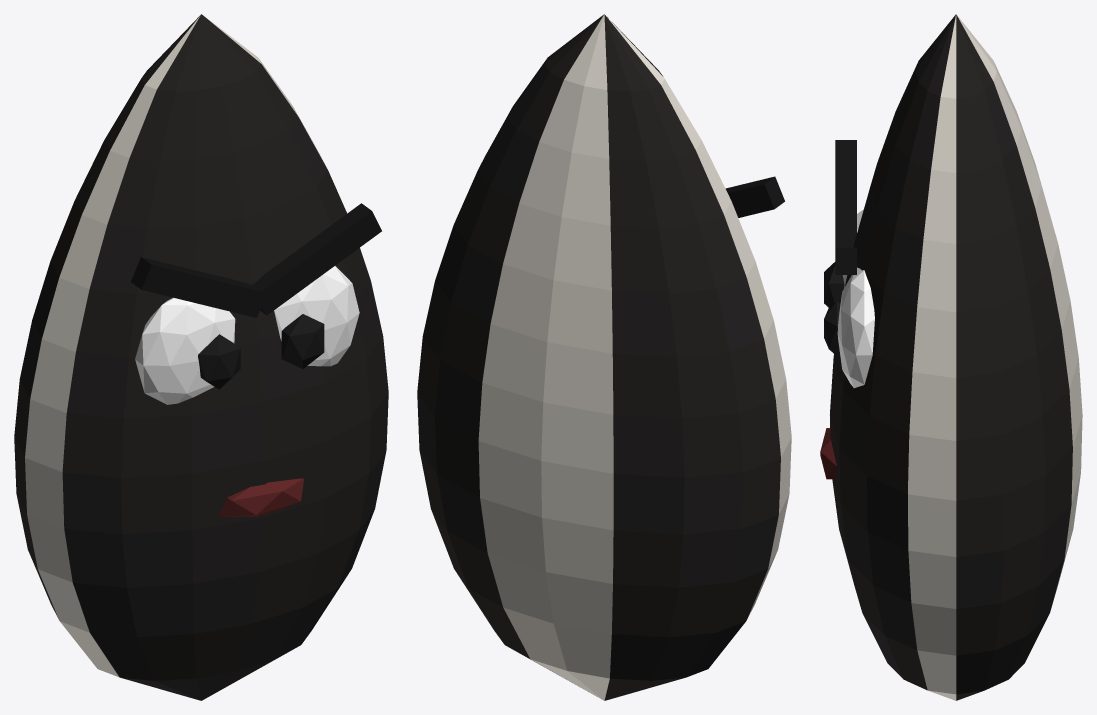
File: seed_melee.glb
3 views of the same model, side by side, from view 1: azimuth 30°, elevation 25°; view 2: azimuth 150°, elevation 25°; view 3: azimuth 270°, elevation 25° (orthographic).
Visible parts, largest first — view 1: melee_Shell, melee_Eye, melee_Brow, melee_Pupil, melee_Mouth; view 2: melee_Shell, melee_Brow; view 3: melee_Shell, melee_Eye, melee_Brow, melee_Pupil, melee_Mouth.
Part boxes in pixels (bbox=[...]): melee_Shell: bbox=[14, 14, 388, 700]; melee_Eye: bbox=[135, 266, 359, 404]; melee_Brow: bbox=[131, 203, 381, 317]; melee_Pupil: bbox=[198, 314, 324, 389]; melee_Mouth: bbox=[219, 478, 303, 516]; melee_Shell: bbox=[417, 14, 791, 700]; melee_Brow: bbox=[725, 176, 784, 217]; melee_Shell: bbox=[830, 14, 1082, 700]; melee_Eye: bbox=[837, 209, 874, 388]; melee_Brow: bbox=[835, 140, 856, 274]; melee_Pupil: bbox=[824, 262, 844, 355]; melee_Mouth: bbox=[820, 428, 836, 479].
Size of the model in its own units: 0.6992 by 1.3 by 0.4496.
Materials: 1 (1 with a texture image).
